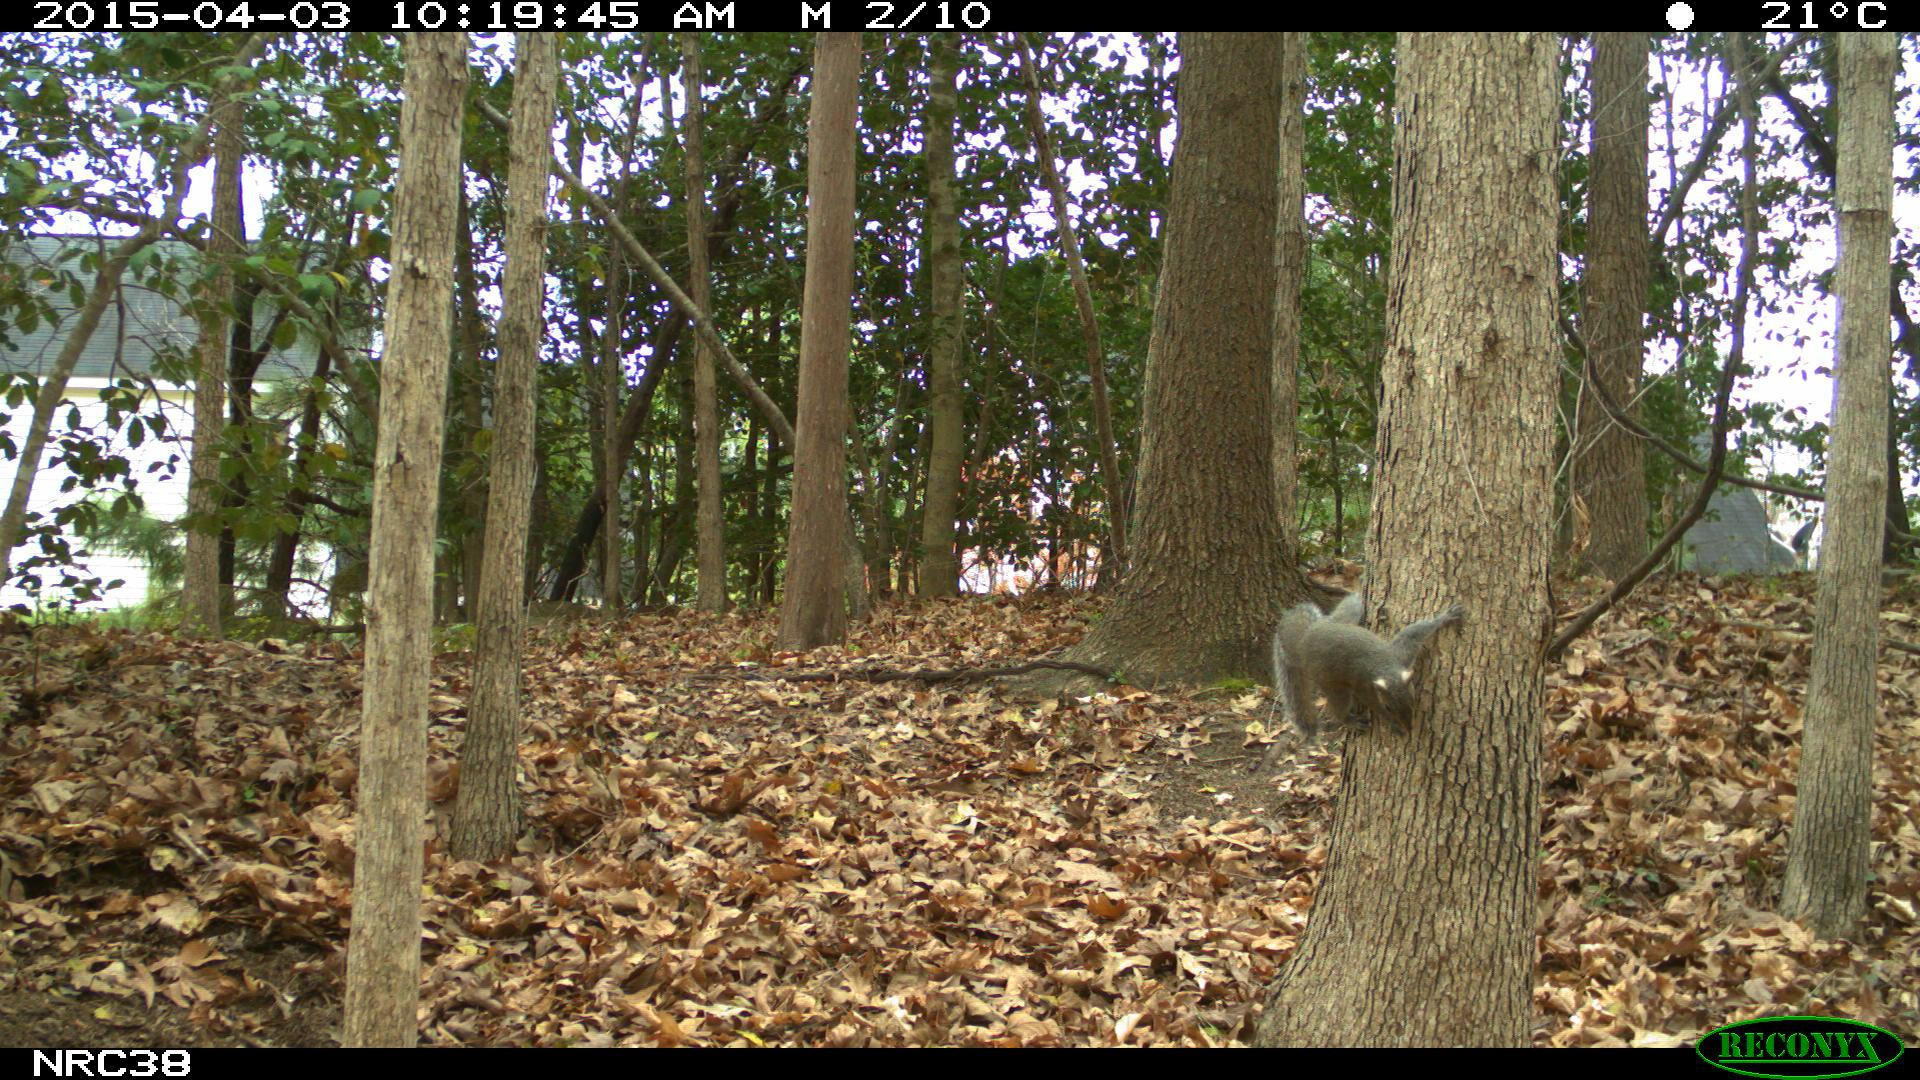Animal: (1274, 595, 1462, 760)
